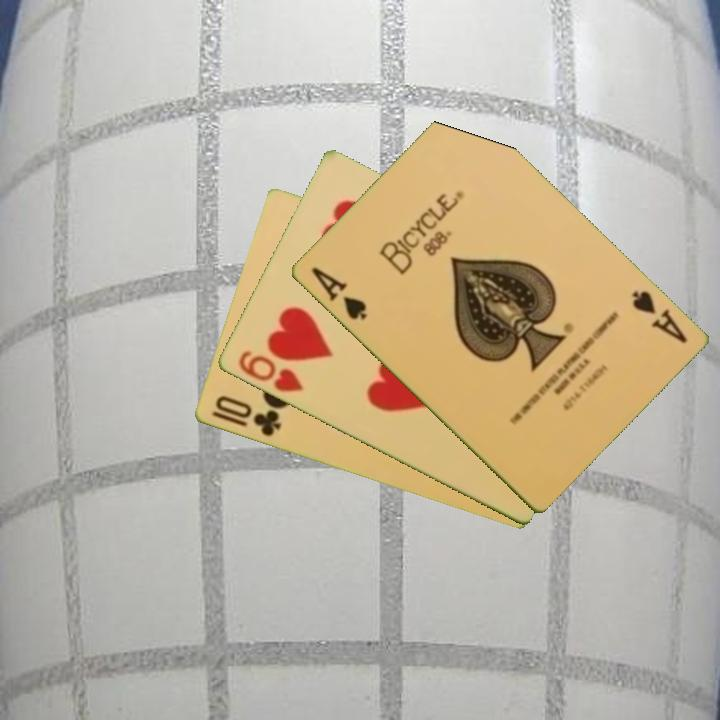10c: (207, 392, 284, 440)
6h: (234, 347, 306, 396)
As: (307, 263, 370, 324), (628, 286, 690, 347)
